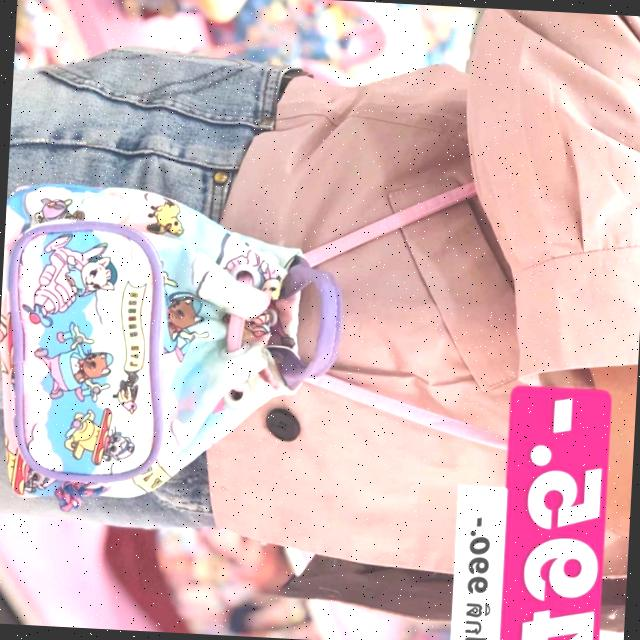handbag: (0, 140, 388, 546)
